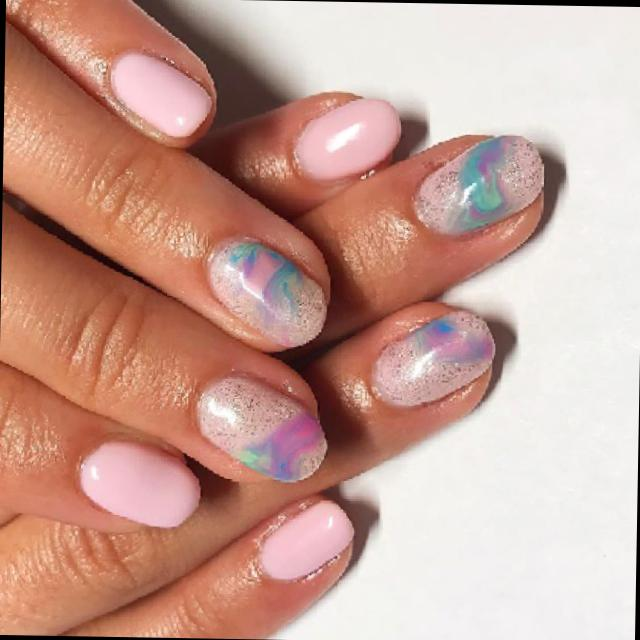Nail: (197, 374, 326, 481), (208, 238, 326, 346), (415, 135, 542, 233), (373, 309, 494, 405), (79, 440, 199, 526), (294, 97, 399, 180), (111, 50, 211, 136), (258, 500, 353, 580)
